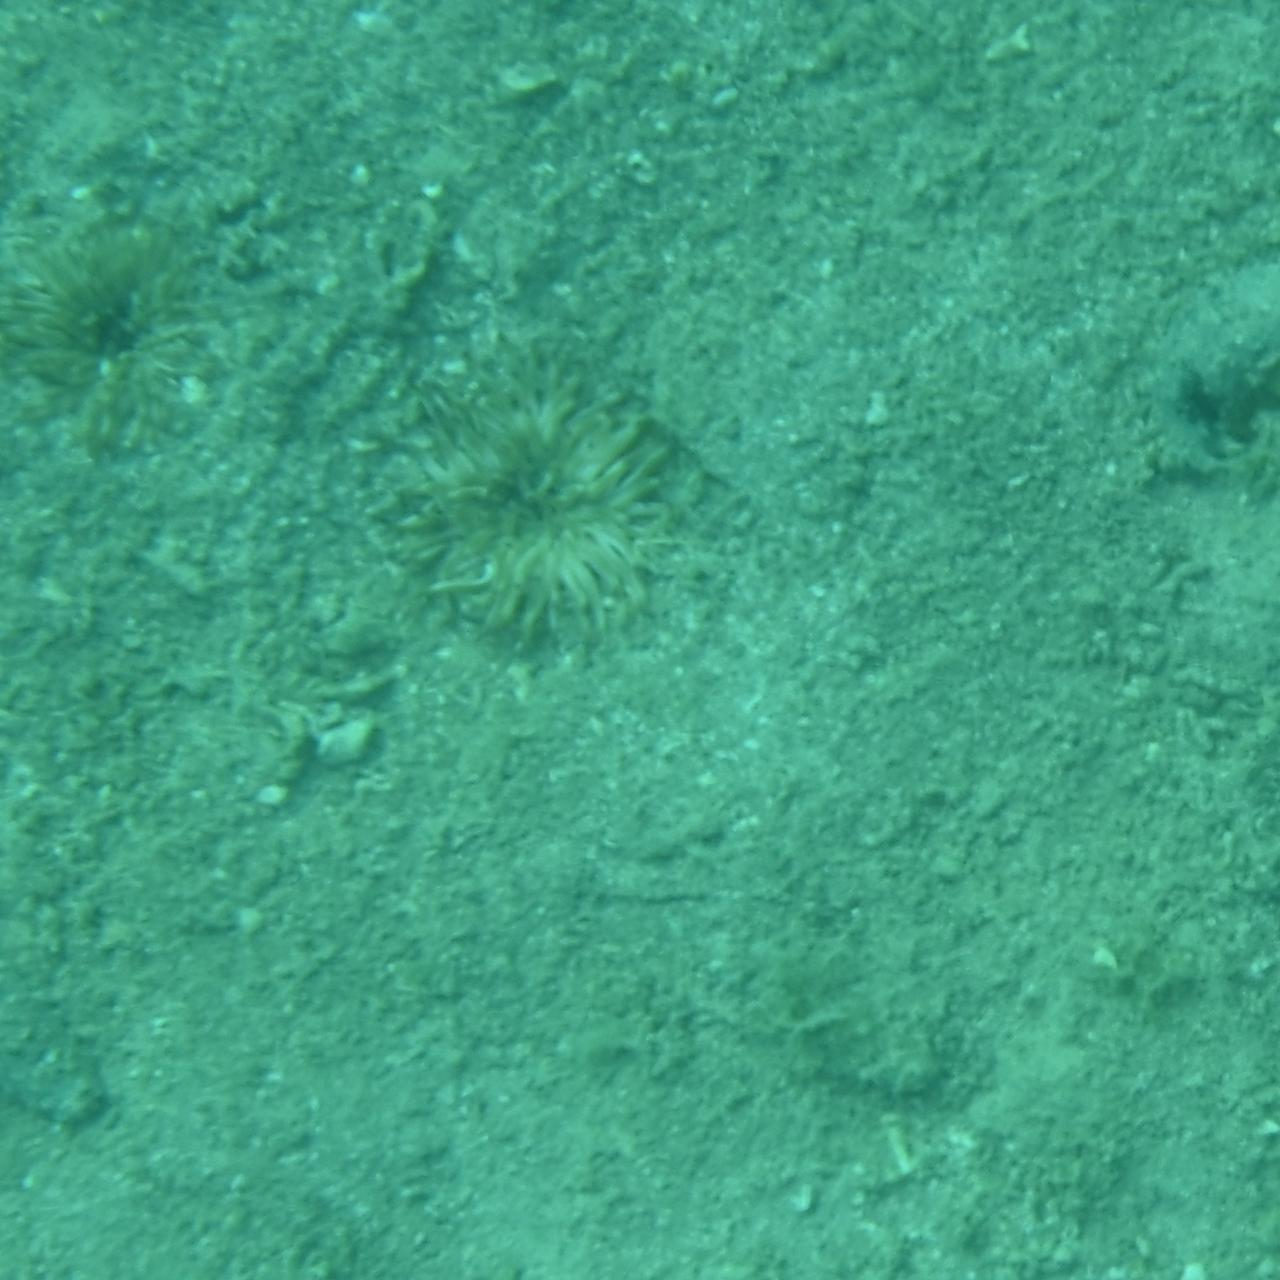Condylactis aurantiaca: (354, 341, 731, 699), (0, 169, 275, 445)
Holothuria tubulosa: (0, 815, 189, 1131), (1058, 244, 1280, 476)
